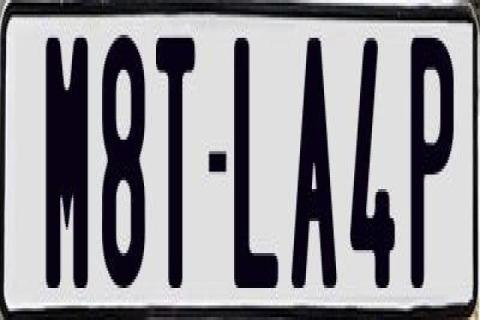0: (102, 32, 152, 300), (347, 29, 398, 288)
A: (288, 35, 338, 297)
L: (233, 35, 285, 294)
M: (44, 38, 85, 294)
P: (410, 29, 456, 279)
T: (152, 32, 196, 288)
